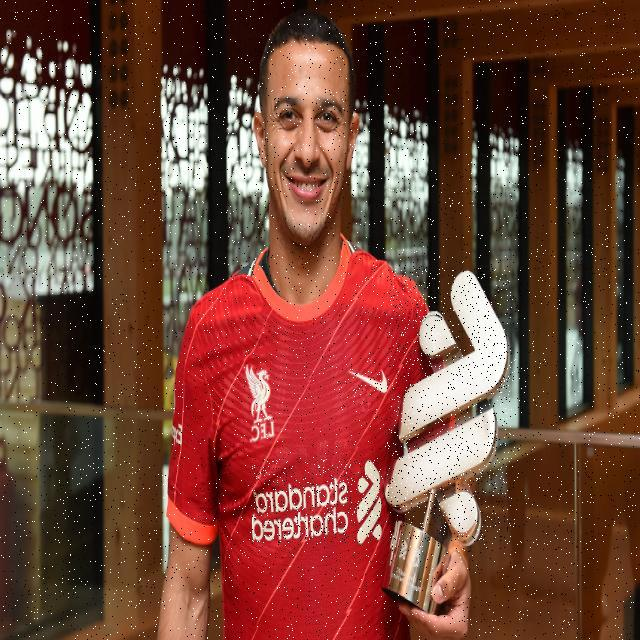Nike: (347, 370, 387, 396)
Standard Chartered: (387, 269, 511, 543), (251, 459, 382, 544)
